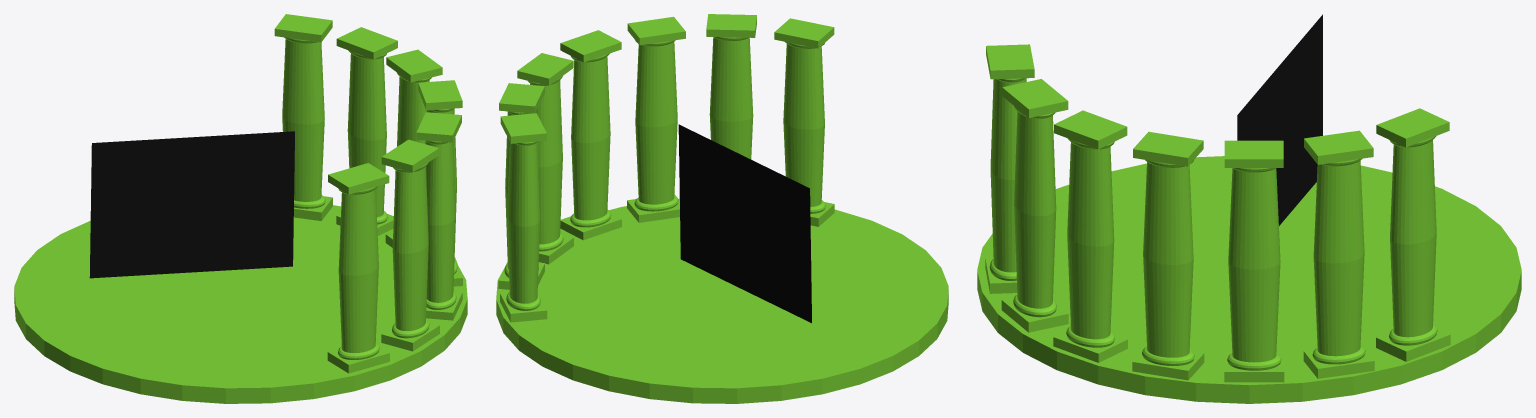
Rendered from Float7.fbx.
3 renders of one model, left to right at view 1: azimuth 30°, elevation 25°; view 2: azimuth 150°, elevation 25°; view 3: azimuth 270°, elevation 25°, orthographic. The views are drawn at different scales.
Visible parts, largest first — view 1: Plane; view 2: Plane; view 3: Plane.
Part boxes in pixels (bbox=[...]): Plane: bbox=[14, 14, 467, 403]; Plane: bbox=[496, 14, 948, 403]; Plane: bbox=[977, 14, 1521, 403].
Size of the model in its own units: 1415 by 693 by 1415.
